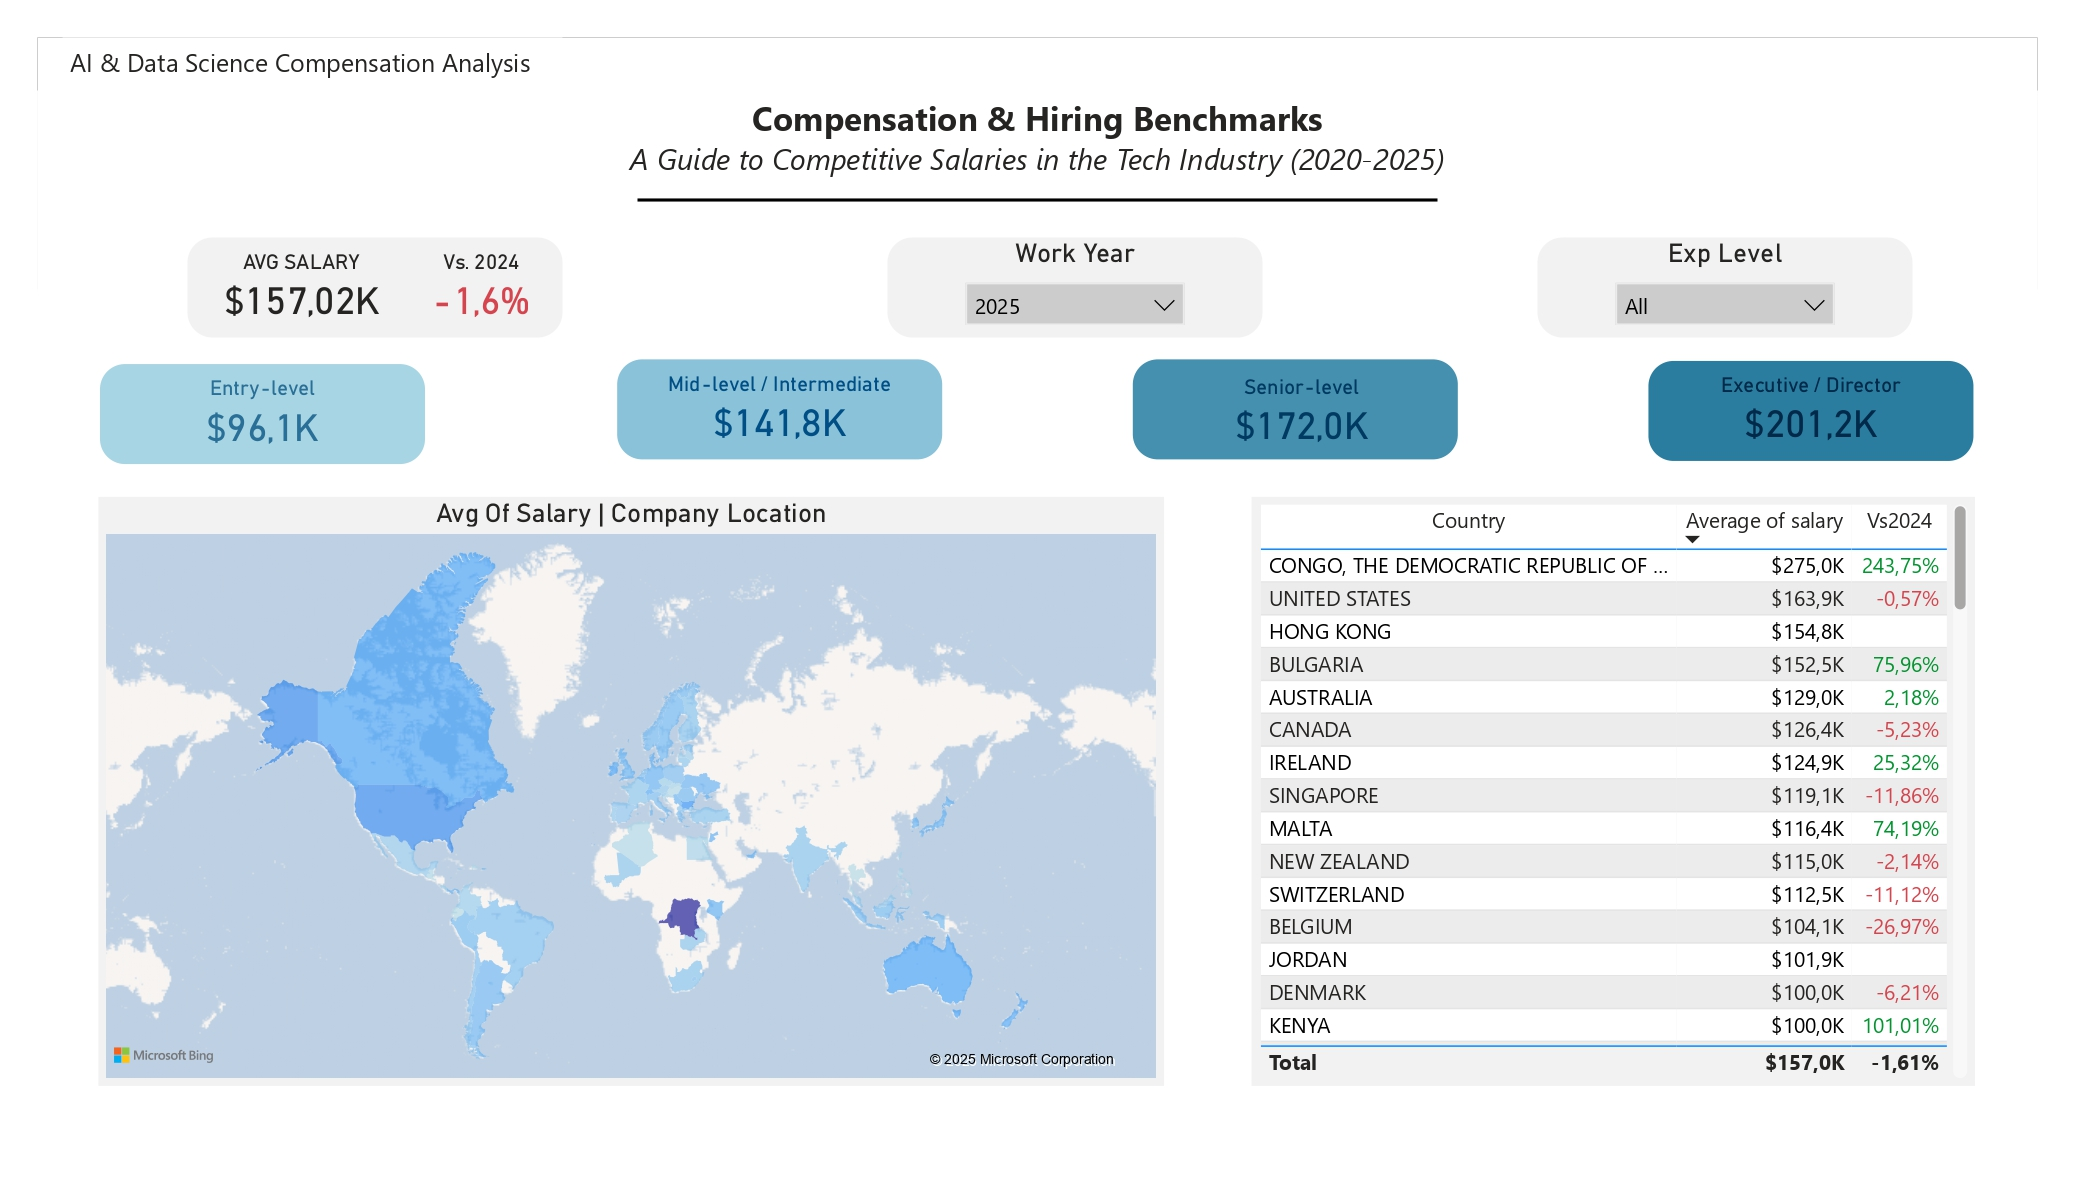

The dashboard page shown, as its layout file describes it:
{"tool":"powerbi","page":{"name":"2b.Drill-down by Dimension","canvas":[1280,720],"ordinal":2},"visuals":[{"type":"textbox","box":[16,0,320,48],"z":0},{"type":"shape","box":[960,128,240,64],"z":0,"group":"g2"},{"type":"textbox","box":[16,32,1248,64],"z":1000},{"type":"slicer","title":"Exp Level","fields":{"Values":["salaries.experience_level"]},"box":[1000.2,128,160,64],"z":1000,"group":"g2"},{"type":"shape","box":[544,128,240,64],"z":1500,"group":"g3"},{"type":"shape","box":[384,96,512,16],"z":2000},{"type":"group","id":"g1","title":"Group 7","box":[96,128,240,64],"z":3000},{"type":"shape","box":[96,128,240,64],"z":4000,"group":"g1"},{"type":"tableEx","title":"Avg Of Salary | Company Location","fields":{"Values":["Sheet1.Country","Avg(salaries.salary_in_usd)","salaries.Avg_Sal_Change_Vs2024"]},"box":[777.3,294,462.9,377],"z":4000},{"type":"card","title":"AVG SALARY","fields":{"Values":["Avg(salaries.salary_in_usd)"]},"box":[111.4,136,115.4,48],"z":5000,"group":"g1"},{"type":"filledMap","title":"Avg Of Salary | Company Location","fields":{"Category":["salaries.company_location"]},"box":[39.3,294,681.2,377],"z":5000},{"type":"group","id":"g2","title":"Group 1","box":[960,128,240,64],"z":6000},{"type":"shape","box":[40,208.6,208,64],"z":6000,"group":"g7"},{"type":"group","id":"g3","title":"Group 2","box":[544,128,240,48],"z":7000},{"type":"shape","box":[370.7,206.2,208,64],"z":7000,"group":"g5"},{"type":"group","id":"g4","title":"Group 2","box":[700.9,206.2,208,64],"z":8000},{"type":"shape","box":[700.9,206.2,208,64],"z":8000,"group":"g4"},{"type":"slicer","title":"Work Year","fields":{"Values":["salaries.work_year"]},"box":[584.2,128,160,64],"z":9000,"group":"g3"},{"type":"group","id":"g5","title":"Group 3","box":[370.7,206.2,208,64],"z":9000},{"type":"group","id":"g6","title":"Group 4","box":[1031.1,206.8,208.1,63.5],"z":10000},{"type":"shape","box":[1031.1,206.8,208,64],"z":10000,"group":"g6"},{"type":"group","id":"g7","title":"Group 5","box":[40,208.6,208.6,62.9],"z":11000},{"type":"card","title":"Mid-level / Intermediate","fields":{"Values":["salaries.Mid-level"]},"box":[386.7,214.2,176,48],"z":11000,"group":"g5"},{"type":"card","title":"Senior-level","fields":{"Values":["salaries.Senior-level"]},"box":[721.1,215.9,176,48],"z":12000,"group":"g4"},{"type":"card","title":"Executive / Director","fields":{"Values":["salaries.Executive"]},"box":[1047.1,214.8,176,48],"z":13000,"group":"g6"},{"type":"card","title":"Vs. 2024","fields":{"Values":["salaries.Avg_Sal_Change_Vs2024"]},"box":[240,136,88,48],"z":14002,"group":"g1"},{"type":"card","title":"Entry-level","fields":{"Values":["salaries.Entry-level"]},"box":[56,216.6,176,48],"z":16000,"group":"g7"}]}

Visuals, with their boxes on the page's 1280x720 design canvas (x1, y1, x2, y2). These are canvas units, not pixel positions in the 2075x1200 screenshot, which may show the page scaled, cropped or inside an application window:
textbox: locate(16, 0, 336, 48)
shape: locate(960, 128, 1200, 192)
textbox: locate(16, 32, 1264, 96)
"Exp Level" slicer: locate(1000, 128, 1160, 192)
shape: locate(544, 128, 784, 192)
shape: locate(384, 96, 896, 112)
"Group 7" group: locate(96, 128, 336, 192)
shape: locate(96, 128, 336, 192)
"Avg Of Salary | Company Location" tableEx: locate(777, 294, 1240, 671)
"AVG SALARY" card: locate(111, 136, 227, 184)
"Avg Of Salary | Company Location" filledMap: locate(39, 294, 720, 671)
"Group 1" group: locate(960, 128, 1200, 192)
shape: locate(40, 209, 248, 273)
"Group 2" group: locate(544, 128, 784, 176)
shape: locate(371, 206, 579, 270)
"Group 2" group: locate(701, 206, 909, 270)
shape: locate(701, 206, 909, 270)
"Work Year" slicer: locate(584, 128, 744, 192)
"Group 3" group: locate(371, 206, 579, 270)
"Group 4" group: locate(1031, 207, 1239, 270)
shape: locate(1031, 207, 1239, 271)
"Group 5" group: locate(40, 209, 249, 272)
"Mid-level / Intermediate" card: locate(387, 214, 563, 262)
"Senior-level" card: locate(721, 216, 897, 264)
"Executive / Director" card: locate(1047, 215, 1223, 263)
"Vs. 2024" card: locate(240, 136, 328, 184)
"Entry-level" card: locate(56, 217, 232, 265)
